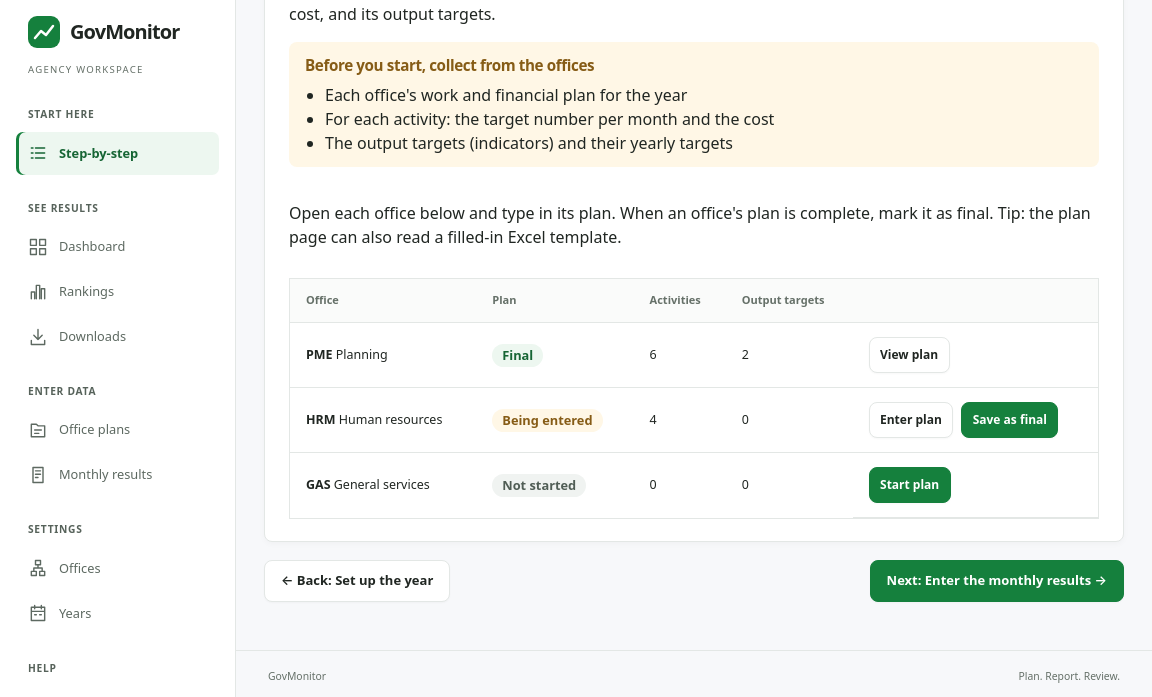
Test case: saves a plan as final in one click, with no approval step
This screenshot has width=1152, height=697.
(page scrolled)
What coordinates should you click on to do the following:
click the button "Save as final"
I would click on:
 (1010, 420)
Its box is [961,402,1058,438].
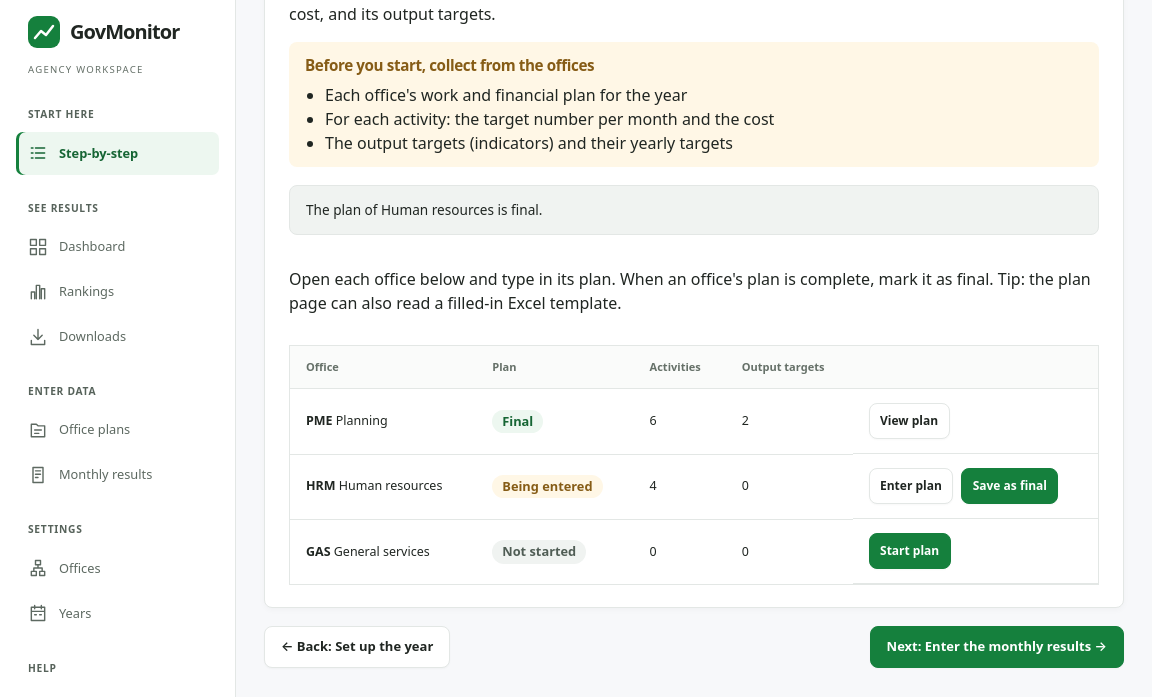
expect the text "The plan of Human resources is final." is shown: met, box [289,185,1099,235]
